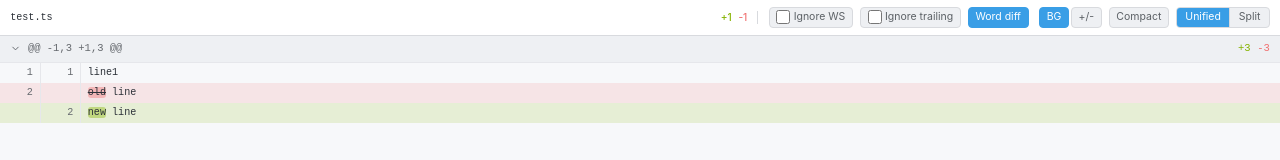
Test: DiffViewer › collapses and expands hunks
Click the text "@@ -1,3 +1,3 @@" at (75,49), box [28,41,122,56]
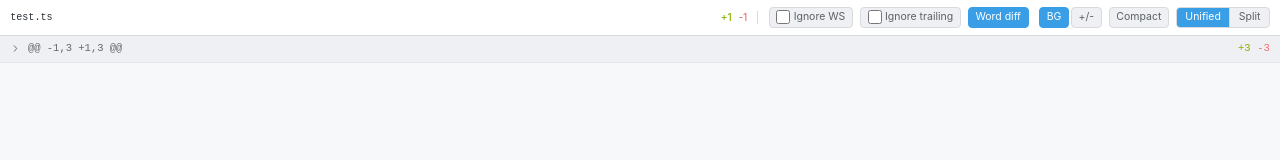
Expected: the text "line1" is gone
# Click again to expand
Click the text "@@ -1,3 +1,3 @@" at (75,49), box [28,41,122,56]
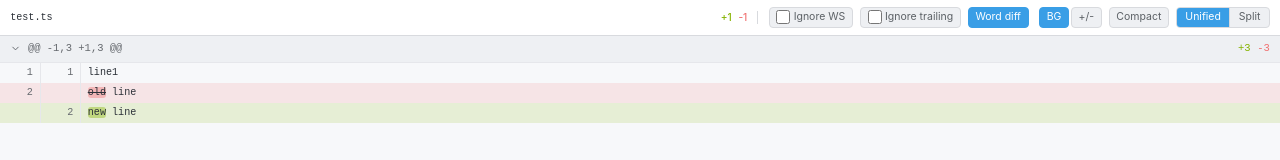
Expected: the text "line1" is shown, [88,66,118,78]
